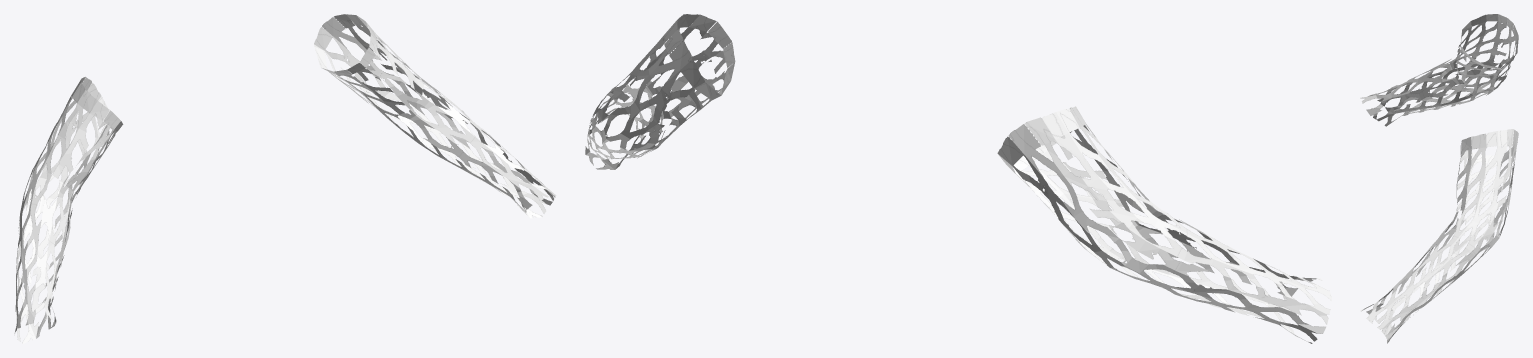
The model's file is mhw_v0rt3x_armsleeves_white_fishnet_large.glb.
3 renders of one model, left to right at view 1: azimuth 30°, elevation 25°; view 2: azimuth 150°, elevation 25°; view 3: azimuth 270°, elevation 25°, orthographic. The views are drawn at different scales.
Visible parts, largest first — view 1: mhw_v0rt3x_armsleeves_white_fishnet_large; view 2: mhw_v0rt3x_armsleeves_white_fishnet_large; view 3: mhw_v0rt3x_armsleeves_white_fishnet_large.
Part boxes in pixels (x1=…): mhw_v0rt3x_armsleeves_white_fishnet_large: x1=14, y1=14, x2=556, y2=343; mhw_v0rt3x_armsleeves_white_fishnet_large: x1=585, y1=14, x2=1331, y2=343; mhw_v0rt3x_armsleeves_white_fishnet_large: x1=1360, y1=14, x2=1518, y2=343.
Size of the model in its own units: 1.14 by 0.3737 by 0.3332.
Materials: 1 (1 with a texture image).
